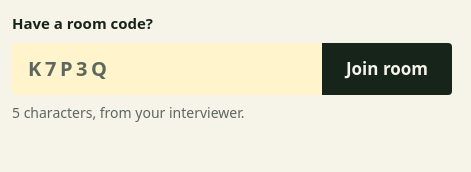
Test: Join code form on the landing page › stays put and explains when the code cannot exist
The image size is (471, 172).
In the field labelled "Have a room code?": (167, 68) [12, 42, 322, 94], type "K0P1Q"
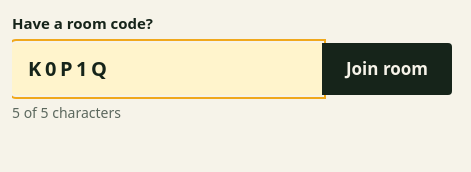
Click the button "Join room": click(387, 68) [322, 42, 452, 94]
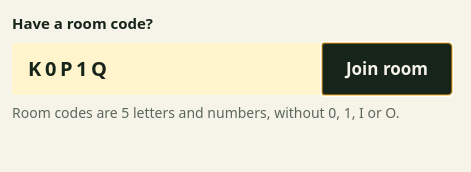
Check: the text "Room codes are 5 letters and numbers, without 0, 1, I or O." is shown, box [12, 102, 452, 122]
